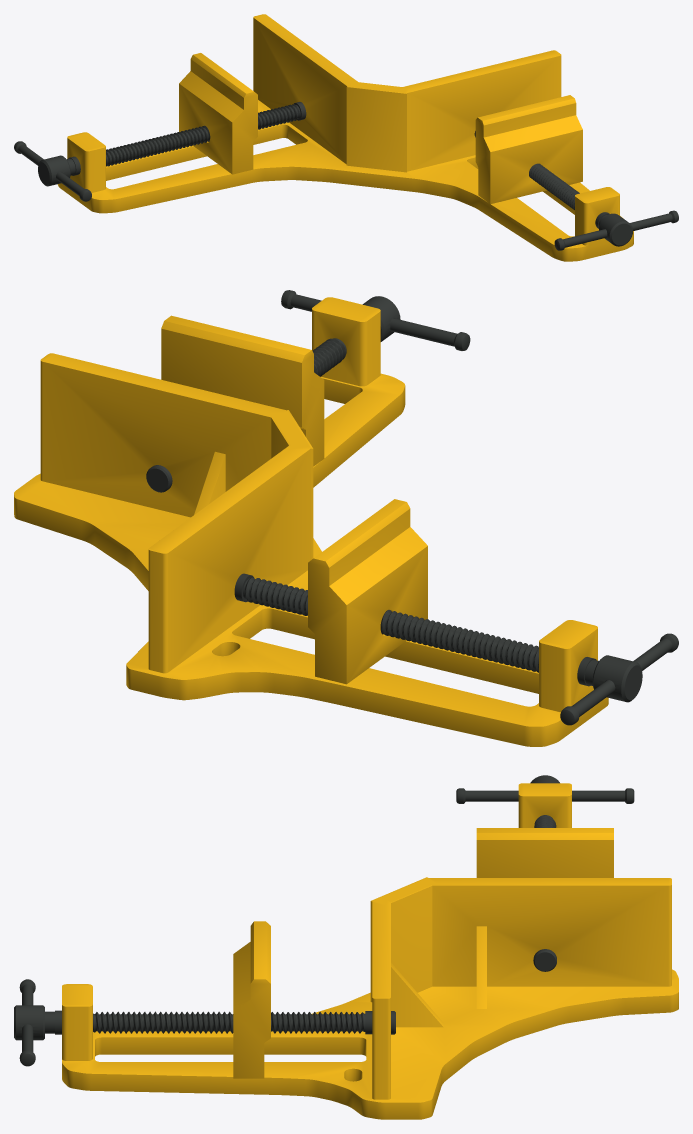
3 renders of one model, top to bottom at view 1: azimuth 30°, elevation 25°; view 2: azimuth 150°, elevation 25°; view 3: azimuth 270°, elevation 25°, orthographic. The views are drawn at different scales.
Visible parts, largest first — view 1: fixed corner frame, vertical traveling jaw, horizontal traveling jaw, horizontal threaded spindle, vertical threaded spindle, vertical sliding cross handle, horizontal sliding cross handle; view 2: fixed corner frame, horizontal traveling jaw, vertical traveling jaw, horizontal threaded spindle, vertical threaded spindle, vertical sliding cross handle, horizontal sliding cross handle; view 3: fixed corner frame, horizontal traveling jaw, vertical threaded spindle, vertical traveling jaw, horizontal sliding cross handle, horizontal threaded spindle, vertical sliding cross handle.
Part boxes in pixels (x1=…): fixed corner frame: x1=57, y1=14, x2=633, y2=261; vertical traveling jaw: x1=475, y1=95, x2=582, y2=204; horizontal traveling jaw: x1=179, y1=53, x2=257, y2=174; horizontal threaded spindle: x1=38, y1=102, x2=306, y2=186; vertical threaded spindle: x1=474, y1=131, x2=632, y2=246; vertical sliding cross handle: x1=554, y1=210, x2=678, y2=250; horizontal sliding cross handle: x1=14, y1=141, x2=91, y2=201; fixed corner frame: x1=14, y1=297, x2=608, y2=746; horizontal traveling jaw: x1=308, y1=499, x2=427, y2=684; vertical traveling jaw: x1=161, y1=315, x2=324, y2=466; horizontal threaded spindle: x1=234, y1=573, x2=642, y2=702; vertical threaded spindle: x1=146, y1=296, x2=400, y2=492; vertical sliding cross handle: x1=281, y1=290, x2=470, y2=350; horizontal sliding cross handle: x1=560, y1=633, x2=678, y2=725; fixed corner frame: x1=62, y1=783, x2=678, y2=1119; horizontal traveling jaw: x1=476, y1=828, x2=613, y2=877; vertical threaded spindle: x1=14, y1=1005, x2=395, y2=1040; vertical traveling jaw: x1=233, y1=921, x2=270, y2=1078; horizontal sliding cross handle: x1=456, y1=788, x2=634, y2=803; horizontal threaded spindle: x1=530, y1=775, x2=559, y2=971; vertical sliding cross handle: x1=19, y1=979, x2=35, y2=1066.
Bounding box in the file's own units: 0.197 × 0.038 × 0.194.
